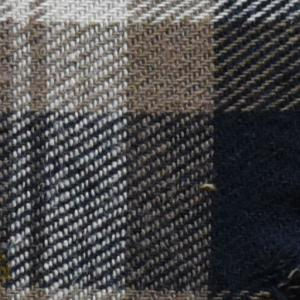Damage: (254, 257, 300, 300)
Stain: (1, 241, 47, 300)
